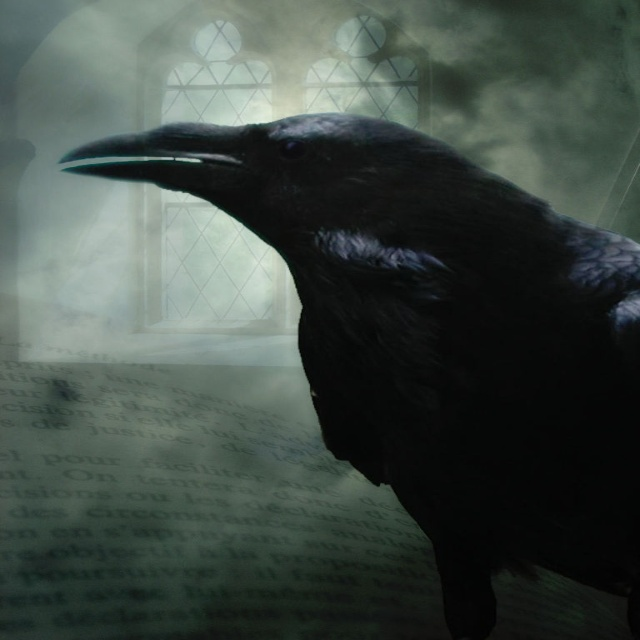Raven: (59, 110, 639, 604)
